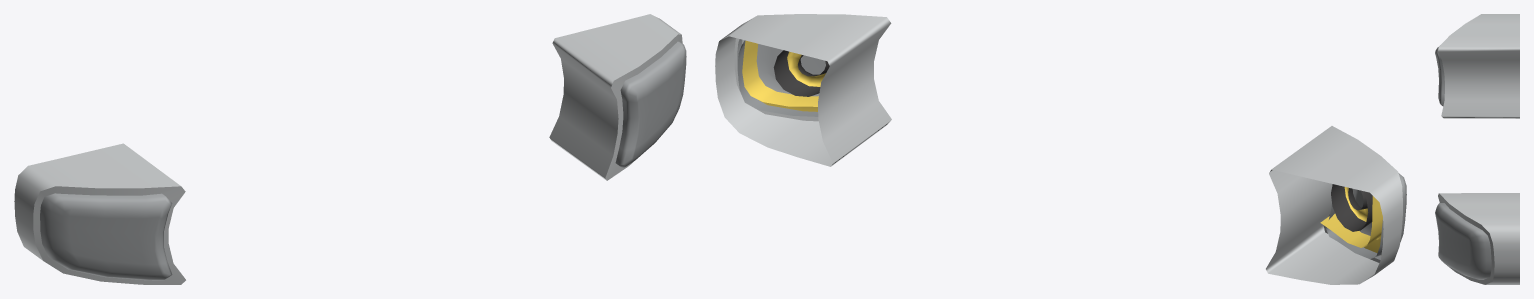
Rendered from Car_05_Headlight_Cool.fbx.
3 renders of one model, left to right at view 1: azimuth 30°, elevation 25°; view 2: azimuth 150°, elevation 25°; view 3: azimuth 270°, elevation 25°, orthographic. The views are drawn at different scales.
Visible parts, largest first — view 1: Car_05_Headlight_Cool; view 2: Car_05_Headlight_Cool; view 3: Car_05_Headlight_Cool.
Boxes of the visible parts, x1,y1,x2,y2 form: Car_05_Headlight_Cool: [14, 14, 686, 284]; Car_05_Headlight_Cool: [715, 14, 1406, 284]; Car_05_Headlight_Cool: [1435, 14, 1519, 284].
Bounding box in the file's own units: 154 × 25.08 × 23.25.
